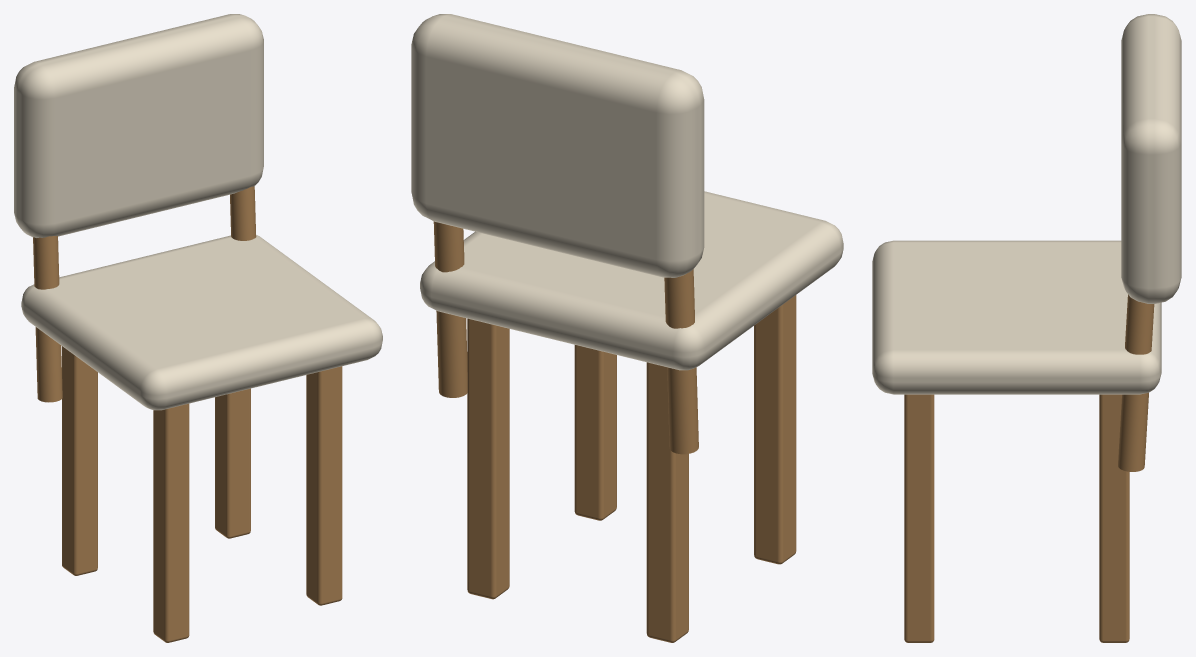
3 views of the same model, side by side, from view 1: azimuth 30°, elevation 25°; view 2: azimuth 150°, elevation 25°; view 3: azimuth 270°, elevation 25° (orthographic). The views are drawn at different scales.
Parts seen in each view (by area): view 1: Curved upholstered back, Padded seat, Tapered leg (×4), Back spindle (×2); view 2: Curved upholstered back, Tapered leg (×4), Padded seat, Back spindle (×2); view 3: Padded seat, Curved upholstered back, Tapered leg (×2), Back spindle.
Part boxes in pixels (x1,y1,x2,y2): Curved upholstered back: (14, 14, 263, 237); Padded seat: (21, 234, 382, 410); Tapered leg (×4): (62, 346, 342, 642); Back spindle (×2): (33, 186, 256, 402); Curved upholstered back: (411, 14, 704, 277); Tapered leg (×4): (467, 295, 796, 642); Padded seat: (420, 191, 843, 370); Back spindle (×2): (433, 221, 698, 454); Padded seat: (872, 240, 1161, 394); Curved upholstered back: (1121, 14, 1181, 303); Tapered leg (×2): (904, 394, 1129, 642); Back spindle: (1118, 294, 1154, 471).
Size of the model in its own units: 0.44 by 0.87 by 0.46.
